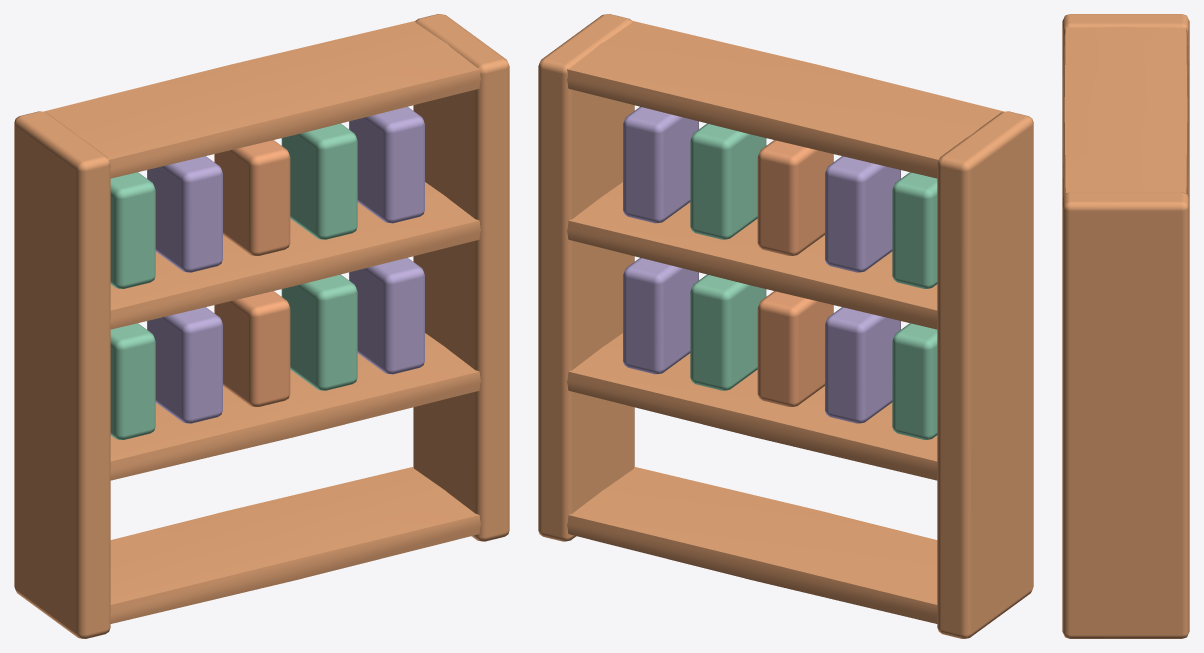
File: bookshelf.glb
3 renders of one model, left to right at view 1: azimuth 30°, elevation 25°; view 2: azimuth 150°, elevation 25°; view 3: azimuth 270°, elevation 25°, orthographic. The views are drawn at different scales.
Visible parts, largest first — view 1: part (×16); view 2: part (×16); view 3: part (×3).
Part boxes in pixels (x1=…): part (×16): x1=14, y1=14, x2=509, y2=638; part (×16): x1=538, y1=14, x2=1033, y2=638; part (×3): x1=1062, y1=14, x2=1189, y2=638.
Size of the model in its own units: 1.8 by 1.9 by 0.5.
Materials: 1 (1 with a texture image).
